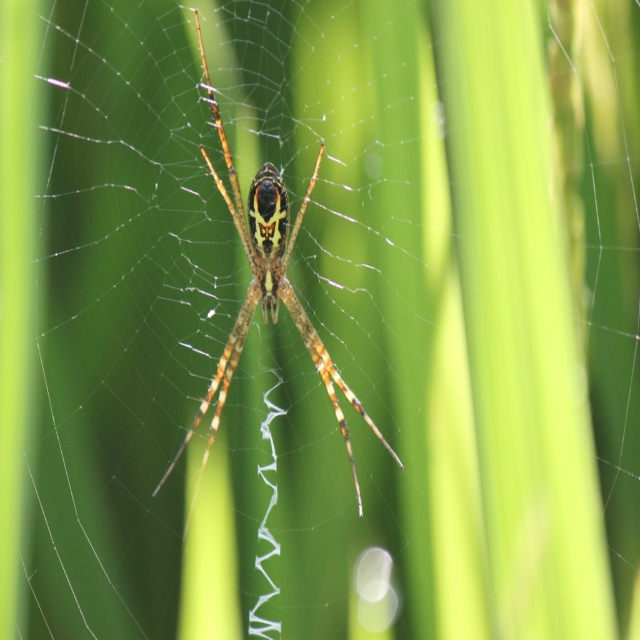Spider: (152, 9, 407, 518)
